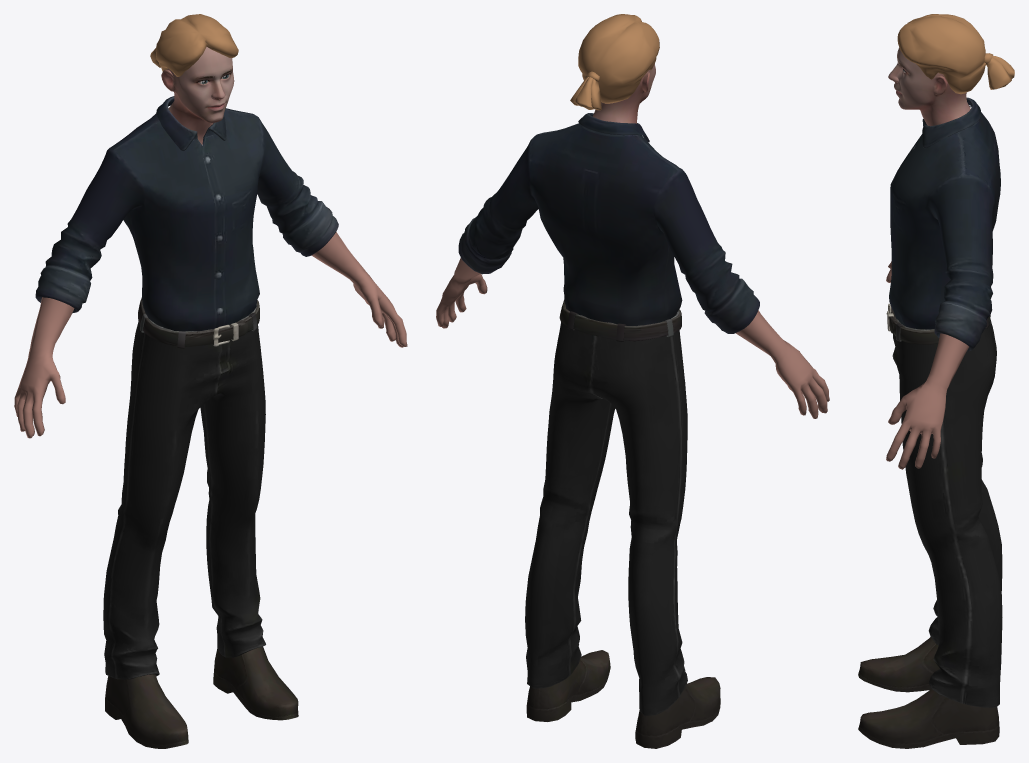
The model's file is MyAvatar-transformed.glb.
3 views of the same model, side by side, from view 1: azimuth 30°, elevation 25°; view 2: azimuth 150°, elevation 25°; view 3: azimuth 270°, elevation 25° (orthographic).
Visible parts, largest first — view 1: Wolf3D_Outfit_Bottom, Wolf3D_Outfit_Top, Wolf3D_Outfit_Footwear, Wolf3D_Body, Wolf3D_Head, Wolf3D_Hair; view 2: Wolf3D_Outfit_Bottom, Wolf3D_Outfit_Top, Wolf3D_Outfit_Footwear, Wolf3D_Hair, Wolf3D_Body, Wolf3D_Head; view 3: Wolf3D_Outfit_Bottom, Wolf3D_Outfit_Top, Wolf3D_Outfit_Footwear, Wolf3D_Hair, Wolf3D_Body, Wolf3D_Head.
Boxes of the visible parts, box(x1,y1,x2,y2) form: Wolf3D_Outfit_Bottom: box(103, 297, 265, 679); Wolf3D_Outfit_Top: box(35, 96, 338, 331); Wolf3D_Outfit_Footwear: box(105, 646, 298, 748); Wolf3D_Body: box(14, 232, 407, 438); Wolf3D_Head: box(161, 47, 234, 144); Wolf3D_Hair: box(150, 14, 238, 76); Wolf3D_Outfit_Bottom: box(525, 298, 687, 715); Wolf3D_Outfit_Top: box(458, 113, 759, 333); Wolf3D_Outfit_Footwear: box(526, 650, 720, 748); Wolf3D_Hair: box(570, 14, 659, 110); Wolf3D_Body: box(436, 257, 829, 418); Wolf3D_Head: box(592, 63, 655, 123); Wolf3D_Outfit_Bottom: box(886, 303, 1002, 707); Wolf3D_Outfit_Top: box(889, 97, 1000, 351); Wolf3D_Outfit_Footwear: box(858, 637, 999, 748); Wolf3D_Hair: box(897, 14, 1014, 94); Wolf3D_Body: box(886, 261, 968, 469); Wolf3D_Head: box(888, 47, 970, 126).
Bounding box in the file's own units: 1.06 × 1.85 × 0.3787.
8 materials, 8 textured.
